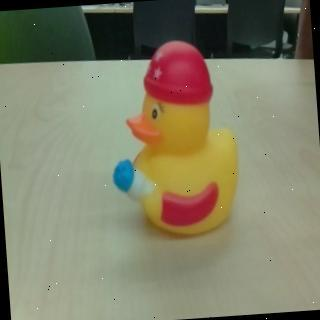duck_specialty: (103, 35, 246, 243)
